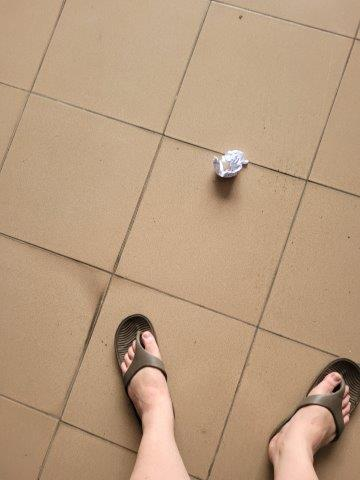kertas: (213, 147, 247, 182)
